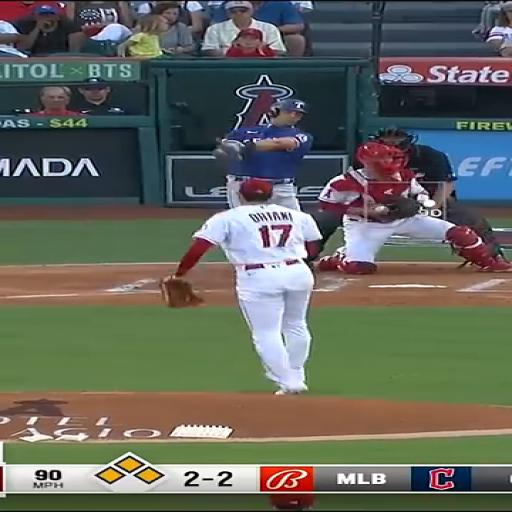bat: (170, 98, 240, 150), (171, 103, 230, 133)
